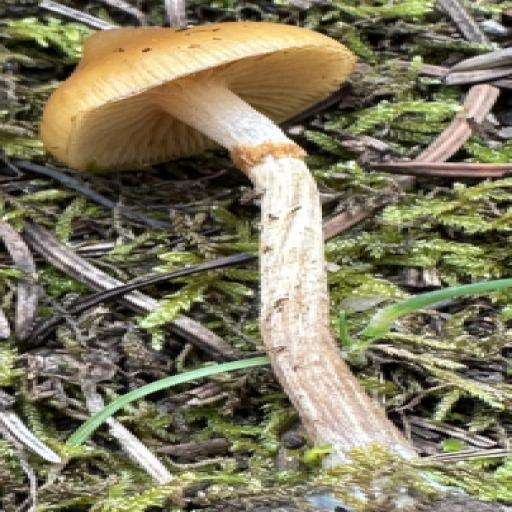mushroom: (42, 20, 400, 298)
